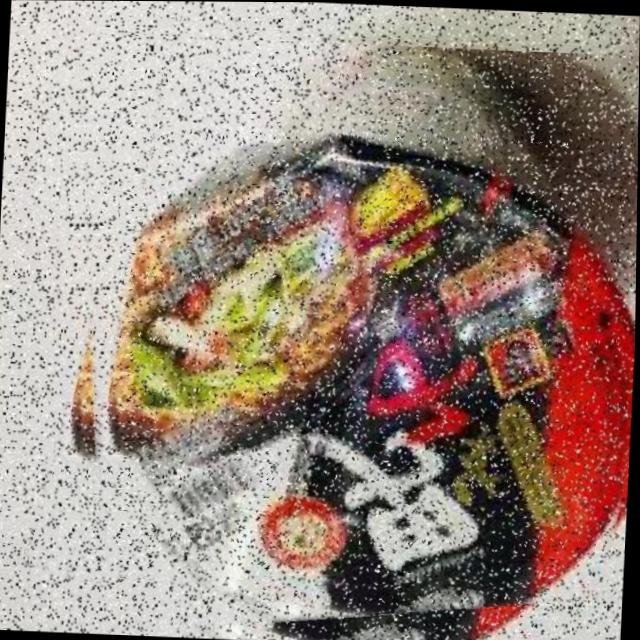Miscellaneous: (48, 31, 640, 640)
